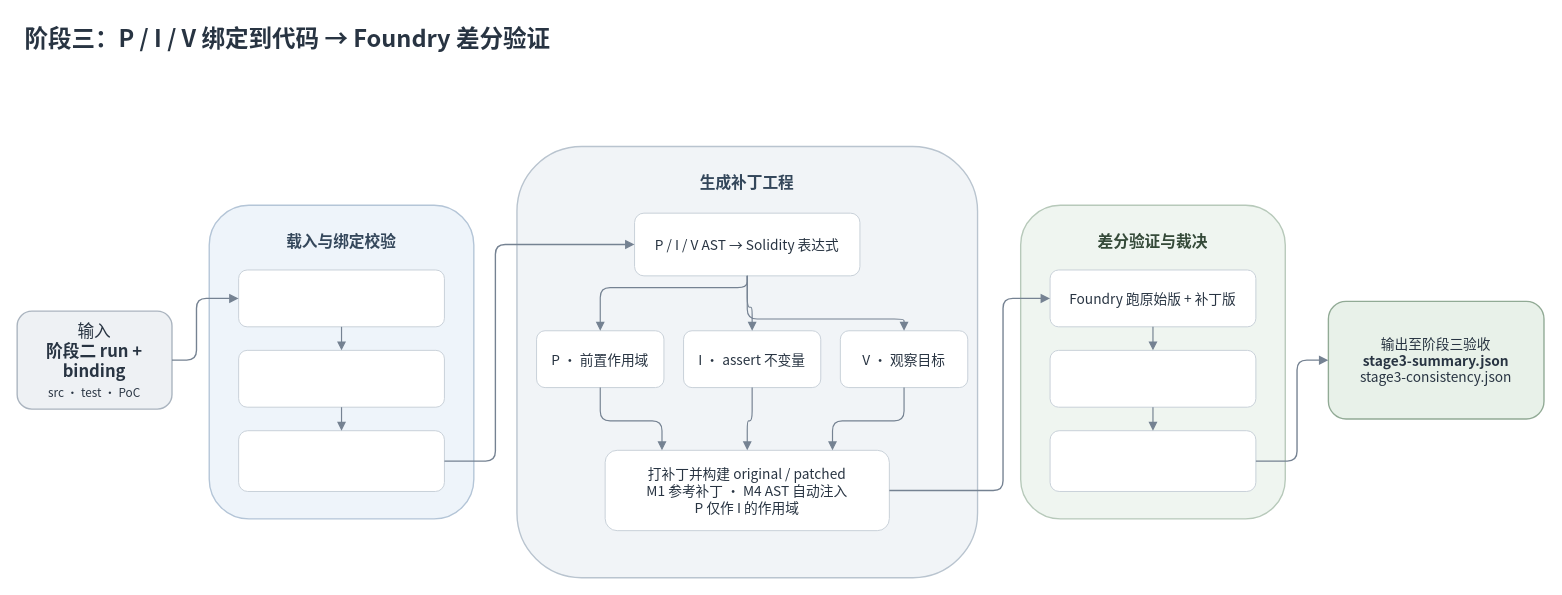
Some shapes in this 1562 by 595 pixel diagram are drawn without their labels. Each missing label, with the centre of its shape:
"可表达性与路由分类 auto_assert / reference_patch" belongs at point (341, 460).
"回填并裁决 stage3-consistency.json" belongs at point (1152, 460).
"差分四查询 P∧T · P∧T∧¬I · P∧T∧V · P∧T∧¬V" belongs at point (1152, 378).
"校验 binding 覆盖 appears_in 符号 → 代码绑定" belongs at point (341, 378).
"载入阶段二 run stage3-spec · constraints · formalization" belongs at point (341, 298).
